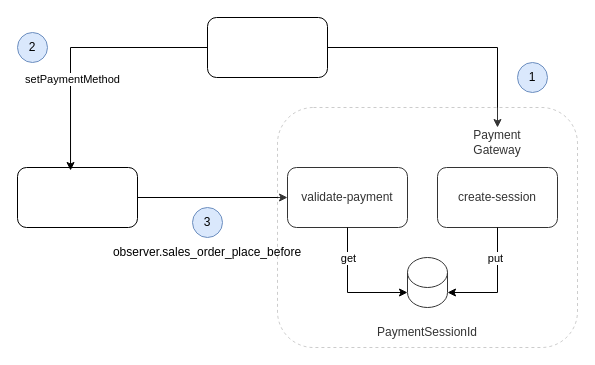
The diagram is 595 pixels wide and 365 high, and some of its shapes have lost their labels. Each missing label, with the centre of its shape:
"ACCS" belongs at point 77,197.
"App Builder" belongs at point 427,227.
"Storefront" belongs at point 267,47.
